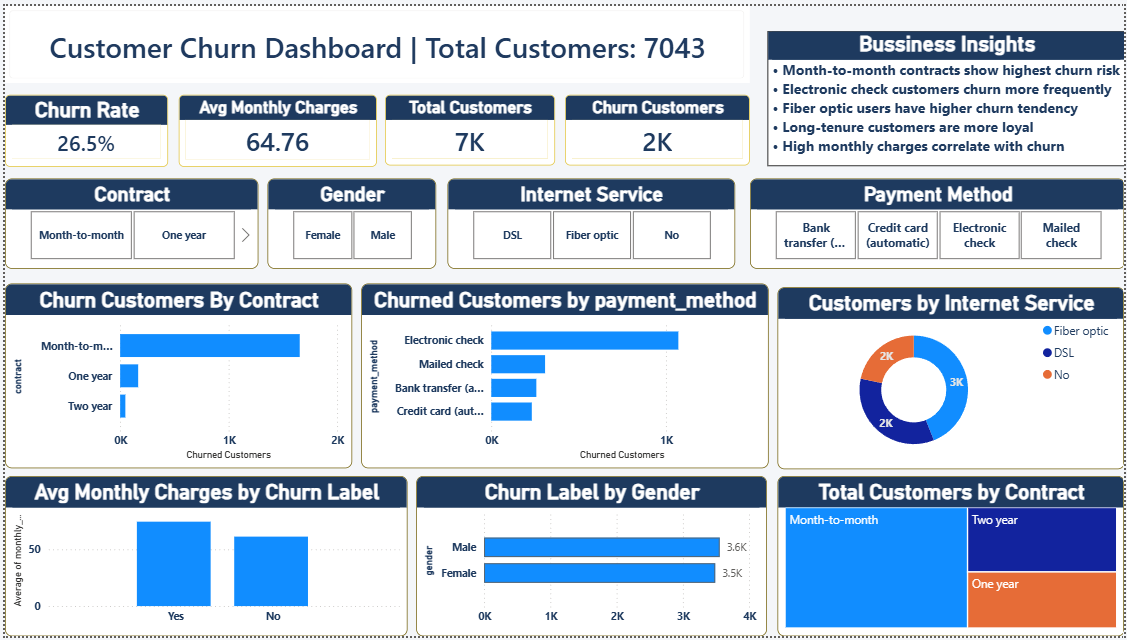

The page's visual inventory and layout, read from the dashboard file:
{"tool":"powerbi","page":{"name":"Page 1","canvas":[1280,720],"ordinal":0},"visuals":[{"type":"cardVisual","title":"Avg Monthly Charges","fields":{"Data":["telco_clean_pgadmin_ready.Avg Monthly Charges"]},"box":[199,100.8,226.4,82.1],"z":0},{"type":"cardVisual","title":"Churn Rate","fields":{"Data":["telco_clean_pgadmin_ready.Churn Rate"]},"box":[0,100.8,186.6,82.1],"z":1000},{"type":"cardVisual","title":"Churn Customers","fields":{"Data":["telco_clean_pgadmin_ready.Churned Customers"]},"box":[639.4,102,211.5,80.9],"z":2000},{"type":"cardVisual","title":"Total Customers","fields":{"Data":["telco_clean_pgadmin_ready.Total Customers"]},"box":[434.1,102,194.1,80.9],"z":3000},{"type":"clusteredBarChart","title":"Churn Customers By Contract","fields":{"Y":["telco_clean_pgadmin_ready.Churned Customers"],"Category":["telco_clean_pgadmin_ready.contract"]},"box":[0,317.2,396.8,211.5],"z":4000},{"type":"barChart","fields":{"Category":["telco_clean_pgadmin_ready.payment_method"],"Y":["telco_clean_pgadmin_ready.Churned Customers"]},"box":[406.8,317.2,465.2,211.5],"z":5000},{"type":"donutChart","title":"Customers by Internet Service","fields":{"Category":["telco_clean_pgadmin_ready.internet_service"],"Y":["telco_clean_pgadmin_ready.Total Customers"]},"box":[883.2,320.9,396.8,207.7],"z":6000},{"type":"columnChart","title":"Avg Monthly Charges by Churn Label","fields":{"Y":["Avg(telco_clean_pgadmin_ready.monthly_charges)"],"Category":["telco_clean_pgadmin_ready.churn_label"]},"box":[0,537.4,460.3,182.9],"z":7000},{"type":"barChart","title":"Churn Label by Gender","fields":{"Category":["telco_clean_pgadmin_ready.gender"],"Y":["CountNonNull(telco_clean_pgadmin_ready.churn_label)"]},"box":[470.2,537.4,400.6,182.9],"z":8000},{"type":"slicer","title":"Contract","fields":{"Values":["telco_clean_pgadmin_ready.contract"]},"box":[0,196.5,289.8,103.2],"z":9000},{"type":"slicer","title":"Payment Method","fields":{"Values":["telco_clean_pgadmin_ready.payment_method"]},"box":[850.9,196.5,429.2,103.2],"z":10000},{"type":"slicer","title":"Internet Service","fields":{"Values":["telco_clean_pgadmin_ready.internet_service"]},"box":[506.3,196.5,328.4,103.2],"z":11000},{"type":"slicer","title":"Gender","fields":{"Values":["telco_clean_pgadmin_ready.gender"]},"box":[299.8,196.5,192.8,103.2],"z":12000},{"type":"treemap","title":"Total Customers by Contract","fields":{"Values":["telco_clean_pgadmin_ready.Total Customers"],"Group":["telco_clean_pgadmin_ready.contract"]},"box":[883.2,537.4,396.8,182.9],"z":13000},{"type":"cardVisual","fields":{"Data":["telco_clean_pgadmin_ready.Dashboard Title2"]},"box":[0,0,850.9,88.3],"z":14000},{"type":"textbox","title":"Bussiness Insights","box":[870.8,28.6,409.3,154.3],"z":15000}]}

Visuals, with their boxes in screenshot pixels (x1, y1, x2, y2), scaled from the page's 1280x720 canvas onto the 1127x640 screenshot:
"Avg Monthly Charges" cardVisual: select_region(175, 90, 375, 163)
"Churn Rate" cardVisual: select_region(0, 90, 164, 163)
"Churn Customers" cardVisual: select_region(563, 91, 749, 163)
"Total Customers" cardVisual: select_region(382, 91, 553, 163)
"Churn Customers By Contract" clusteredBarChart: select_region(0, 282, 349, 470)
barChart - telco_clean_pgadmin_ready.payment_method x telco_clean_pgadmin_ready.Churned Customers: select_region(358, 282, 768, 470)
"Customers by Internet Service" donutChart: select_region(778, 285, 1126, 470)
"Avg Monthly Charges by Churn Label" columnChart: select_region(0, 478, 405, 639)
"Churn Label by Gender" barChart: select_region(414, 478, 767, 639)
"Contract" slicer: select_region(0, 175, 255, 266)
"Payment Method" slicer: select_region(749, 175, 1126, 266)
"Internet Service" slicer: select_region(446, 175, 735, 266)
"Gender" slicer: select_region(264, 175, 434, 266)
"Total Customers by Contract" treemap: select_region(778, 478, 1126, 639)
cardVisual - telco_clean_pgadmin_ready.Dashboard Title2: select_region(0, 0, 749, 78)
"Bussiness Insights" textbox: select_region(767, 25, 1126, 163)
